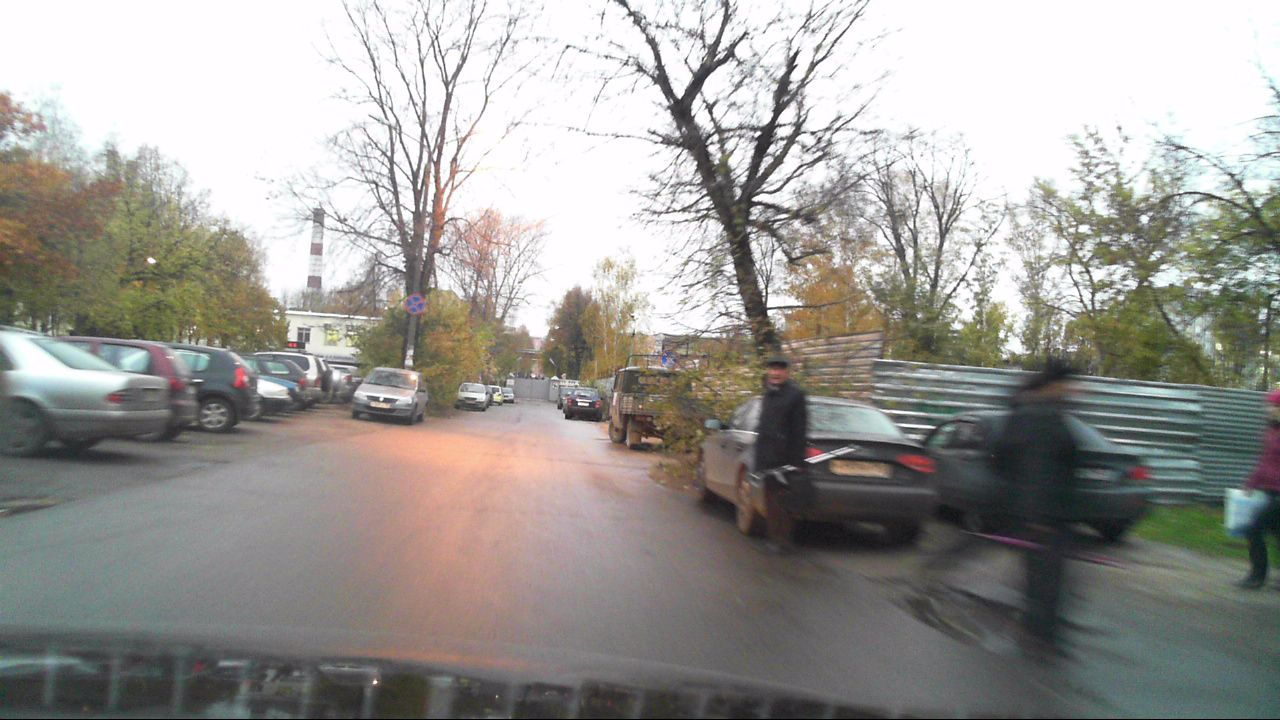No Parking: (401, 291, 424, 315)
